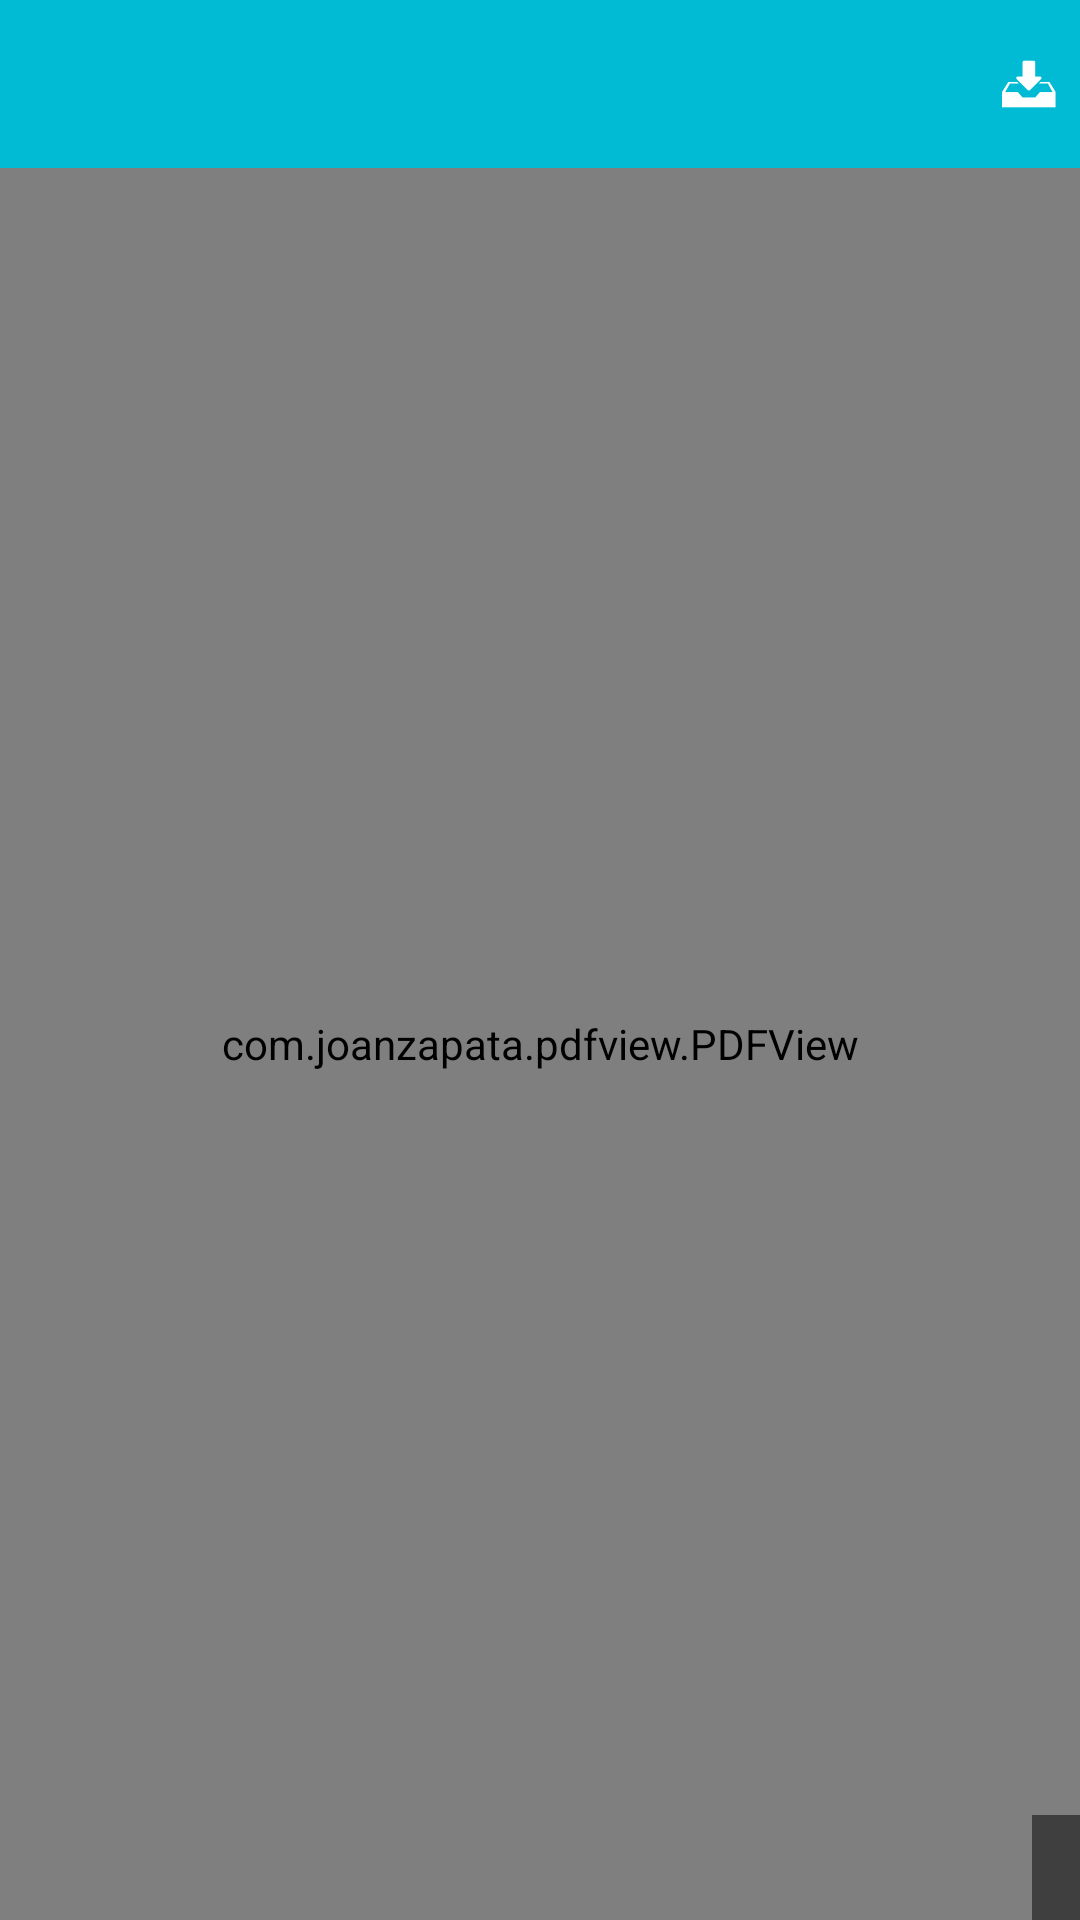

Point at icon controls on the screen. Image size 1080px x 1920px, points as (x=x, y=y).
download: (x=1029, y=84)
